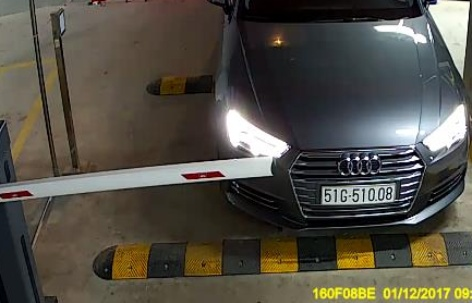plate: (318, 182, 395, 206)
